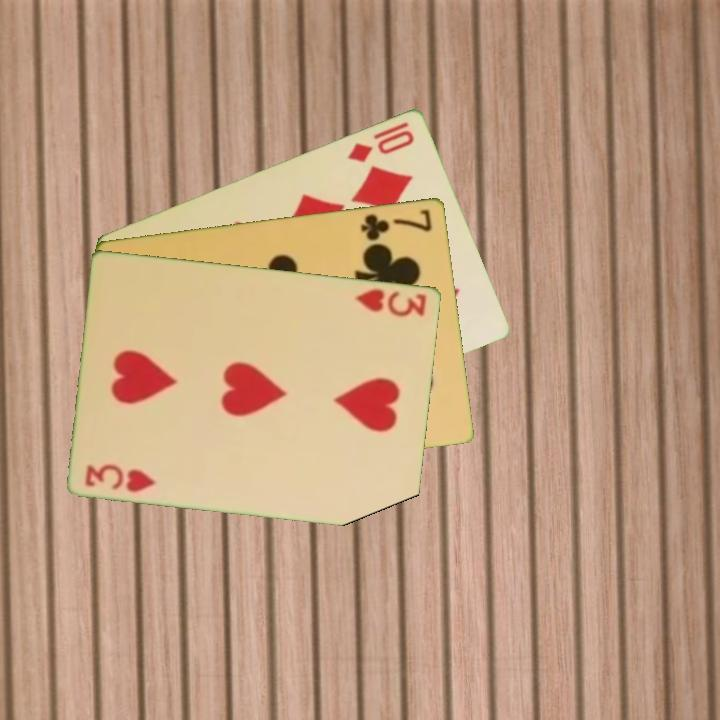10d: (344, 126, 418, 165)
3h: (82, 460, 160, 495), (352, 285, 430, 319)
7c: (357, 205, 436, 244)
